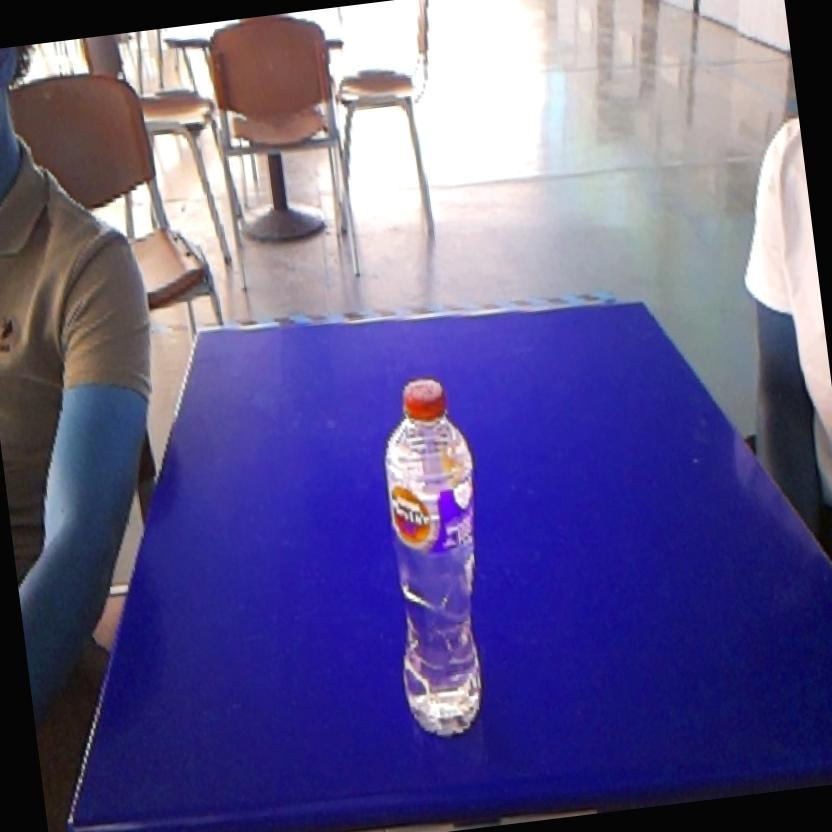good: (357, 356, 516, 761)
